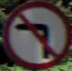Don't turn left: (5, 11, 59, 62)
